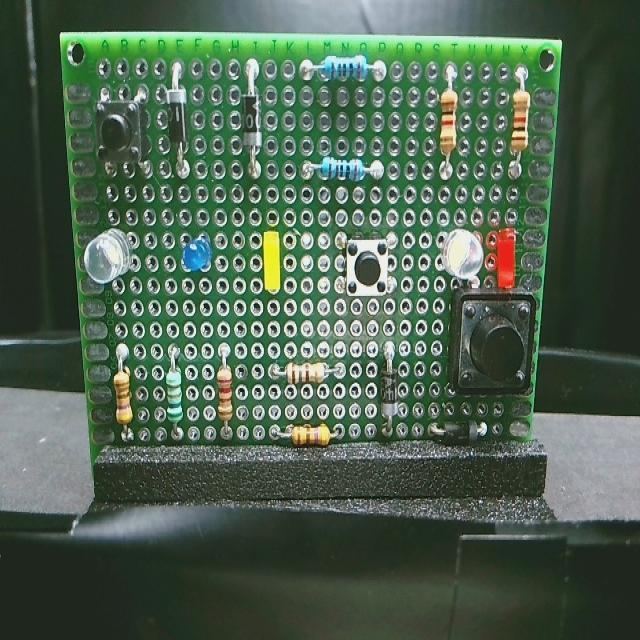diode: (428, 412, 490, 458), (371, 356, 406, 431), (236, 79, 268, 154), (163, 76, 192, 148)
led: (82, 226, 138, 288), (436, 224, 487, 289), (252, 229, 292, 301), (494, 224, 524, 294), (174, 233, 214, 277)
resistor: (433, 84, 471, 162), (306, 143, 371, 187), (109, 362, 145, 435), (159, 355, 187, 438), (506, 89, 538, 161), (316, 50, 377, 85), (280, 356, 334, 392), (214, 355, 240, 425), (283, 425, 338, 455)
switch: (451, 288, 535, 394), (94, 94, 147, 165), (348, 239, 393, 304)
